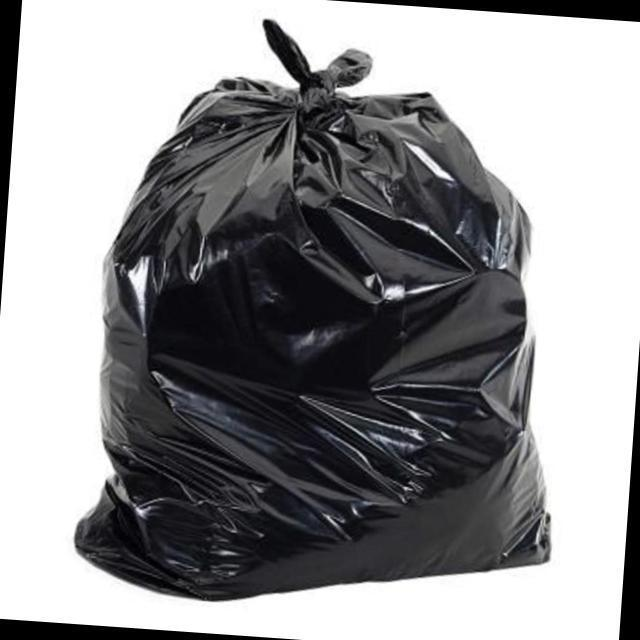Garbage_Bag: (75, 18, 588, 628)
